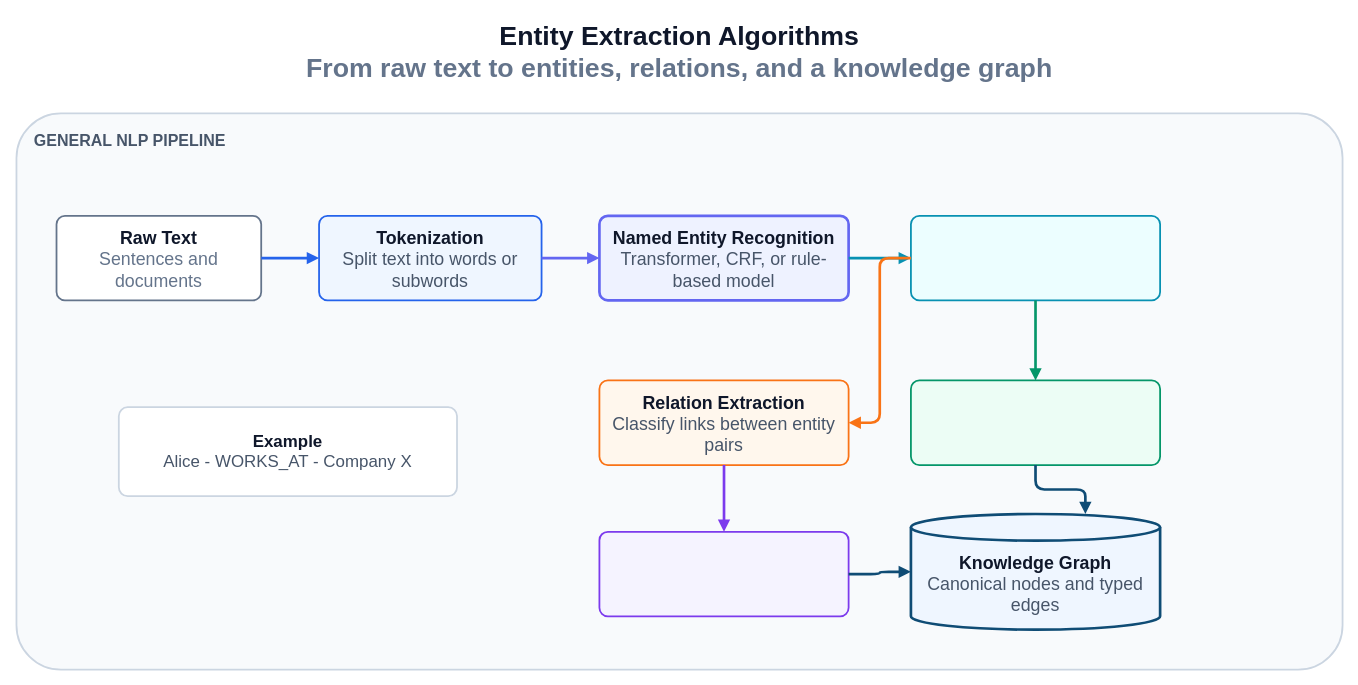
This 1358x685 diagram has some shape labels left out. Each missing label, with the centre of its shape:
Entity Linking Match mentions to canonical entities: the point at 1035,422
Entity Mentions Person, organization, place, date...: the point at 1035,257
Knowledge Triples Subject - Predicate - Object: the point at 723,573
